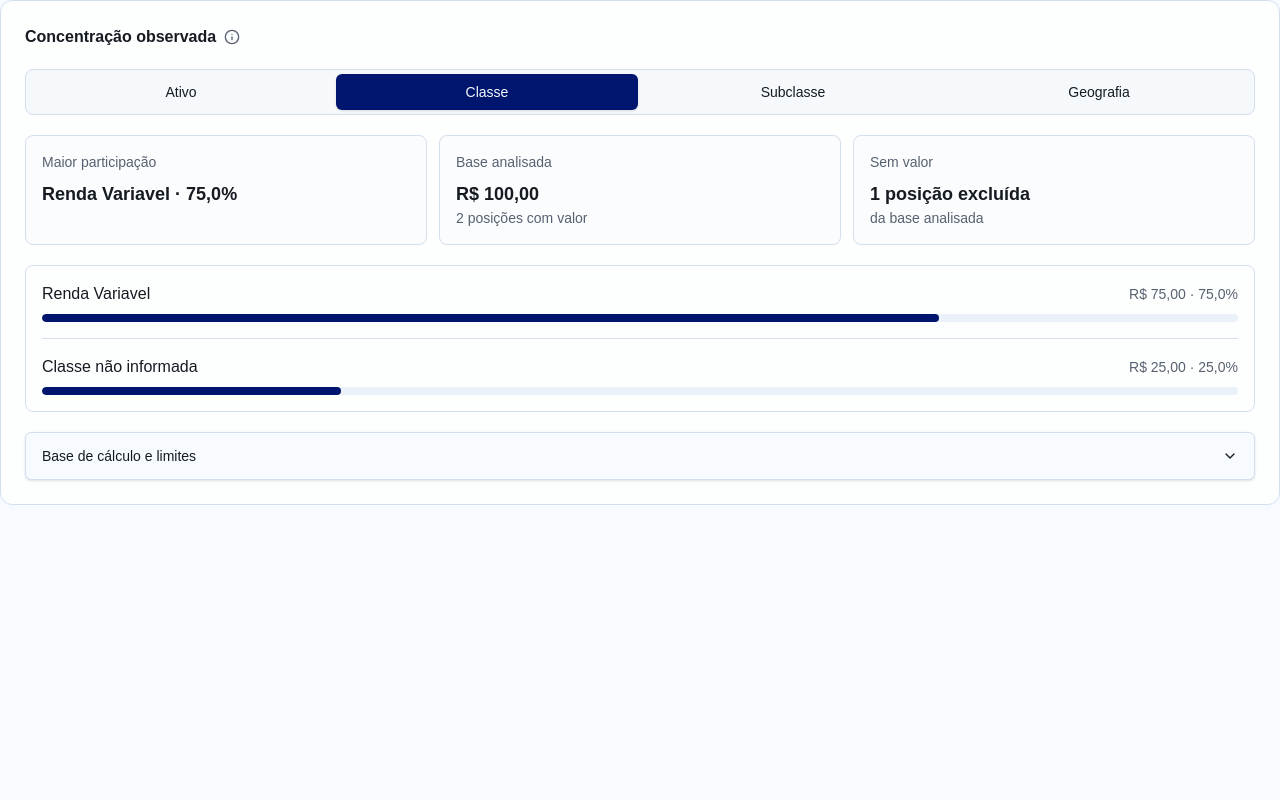
PortfolioConcentrationAnalysis › explains concentration, classification coverage, dates, and limits by dimension
expect the heading "Concentração observada" is shown: met, box [25,25,216,49]
expect the progress indicator named "Renda Variavel: 75,0%" is shown: met, box [42,314,1238,322]
Click the button "Ativo" at (181,92), box [30,74,332,110]
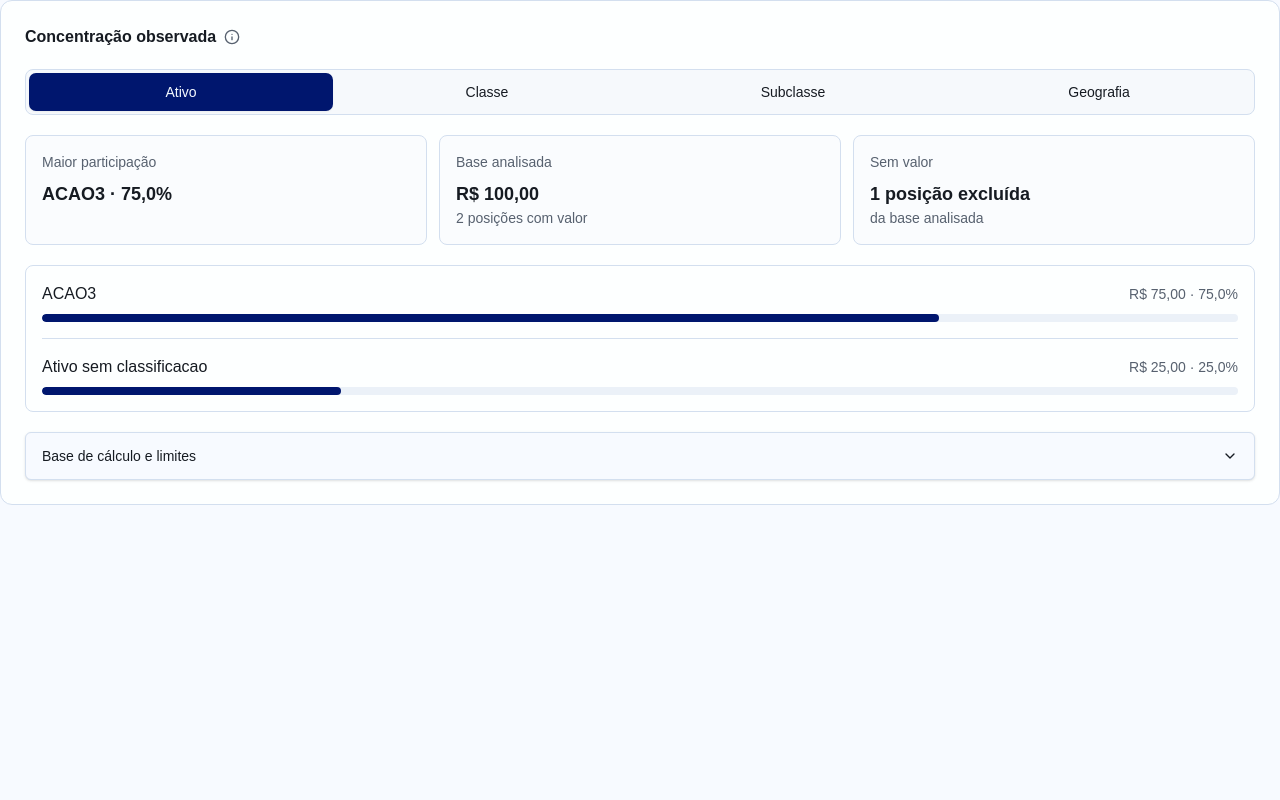
expect the text "1 posição excluída" is shown: met, box [870,184,1030,204]
expect the text "ACAO3 · 75,0%" is shown: met, box [42,184,172,204]
Click the button "Classe" at (487,92), box [336,74,638,110]
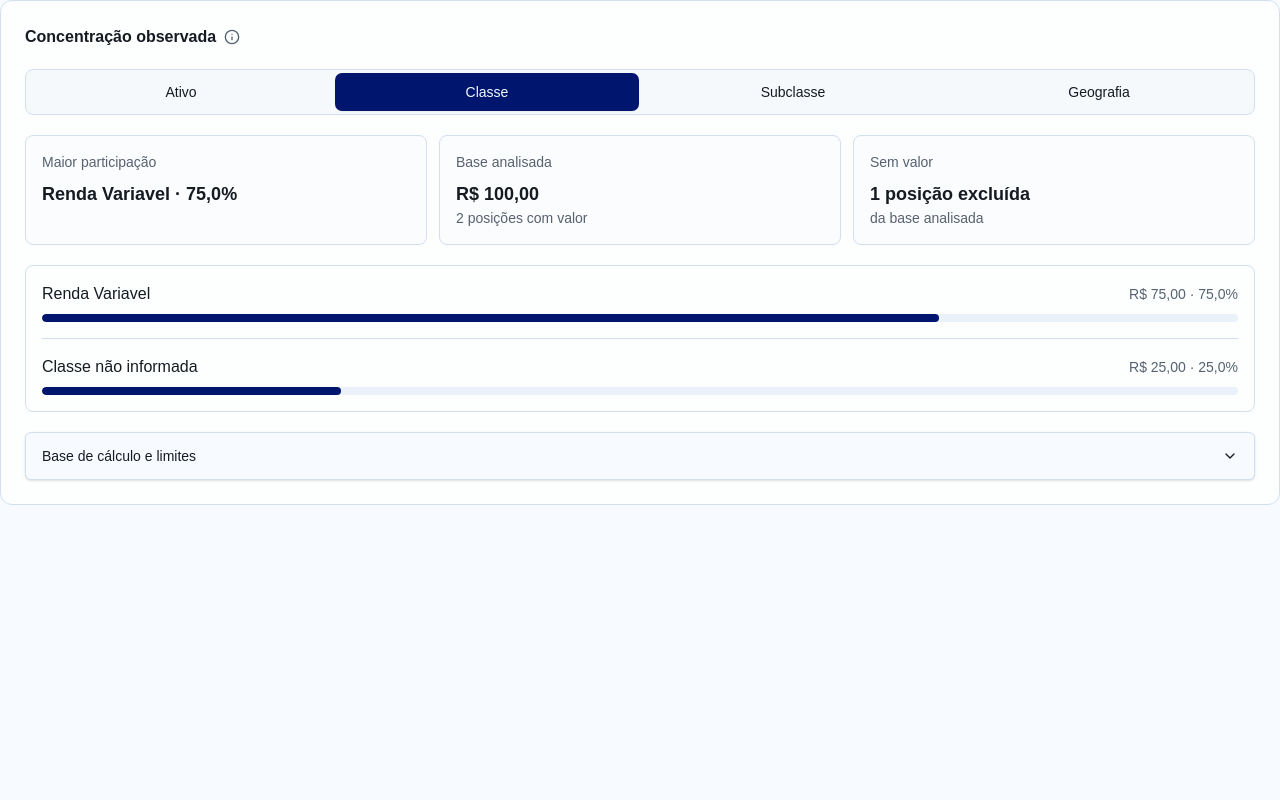
expect the progress indicator named "Renda Variavel: 75,0%" is shown: met, box [42,314,1238,322]
expect the button "Classe" is pressed: met, box [336,74,638,110]
Click the button "Base de cálculo e limites" at (119,456), box [25,432,1255,480]
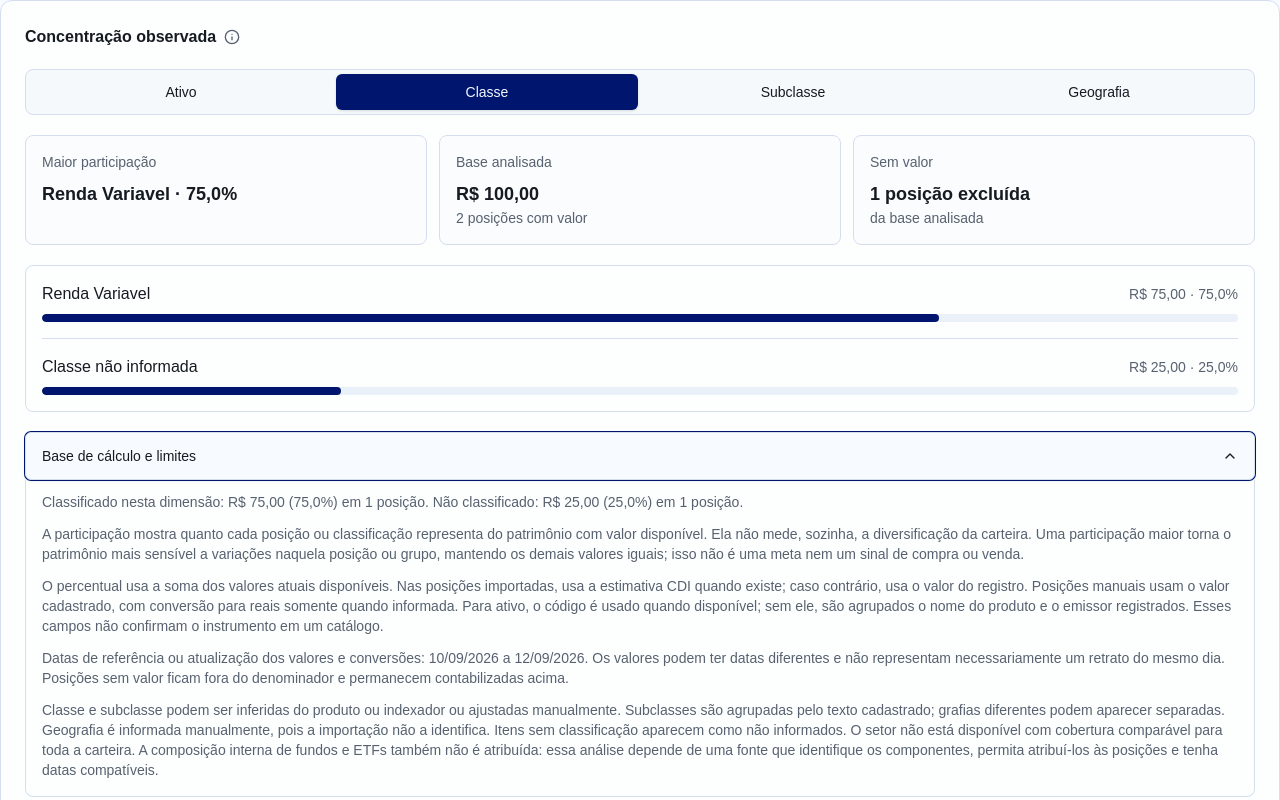
expect the text "ETFs" is shown: met, box [42,702,1225,778]
